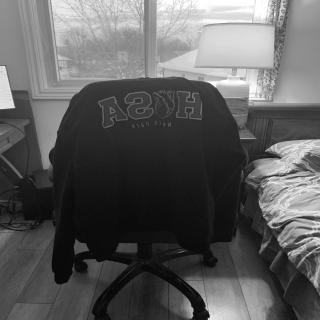HOSA Hoodie: (42, 76, 245, 283)
